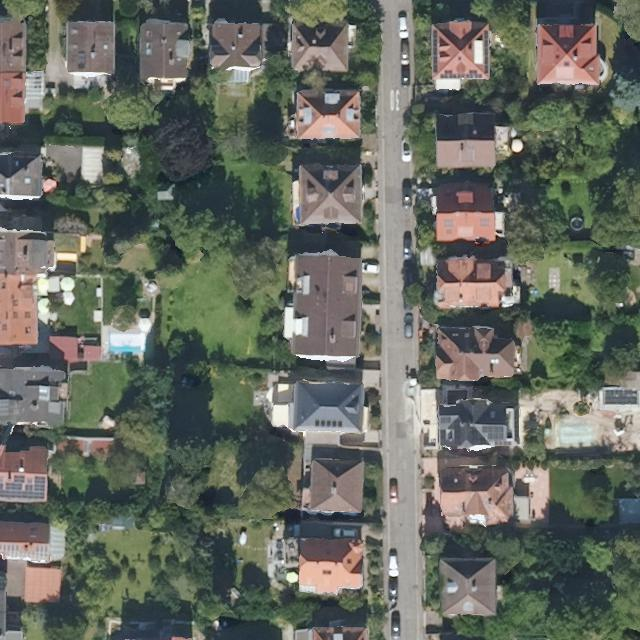PV: (1, 473, 48, 503), (0, 541, 51, 561), (602, 388, 638, 405), (438, 67, 485, 79), (430, 29, 439, 74), (479, 425, 504, 441), (482, 29, 490, 76)
